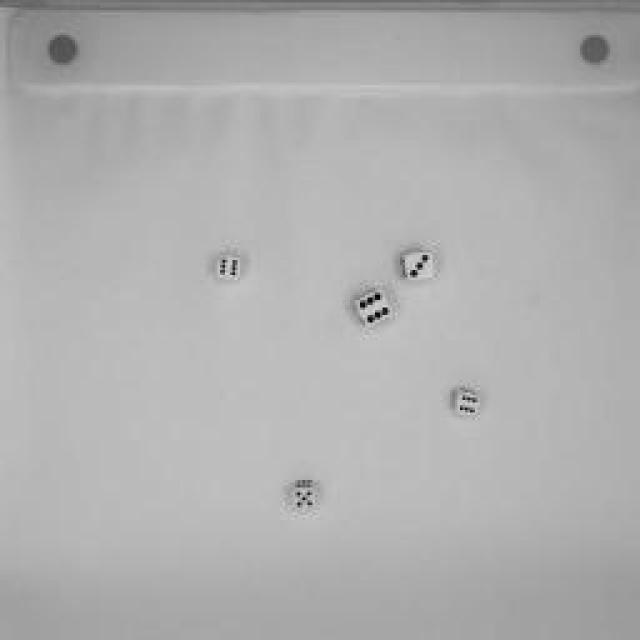dice_3: (395, 245, 440, 290)
dice_5: (291, 476, 324, 512)
dice_6: (349, 284, 396, 331), (445, 382, 485, 420), (213, 250, 245, 282)
